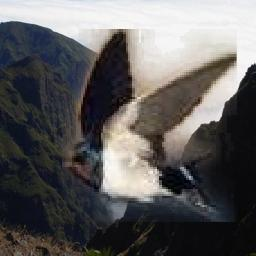Swallow: (63, 30, 238, 223)
